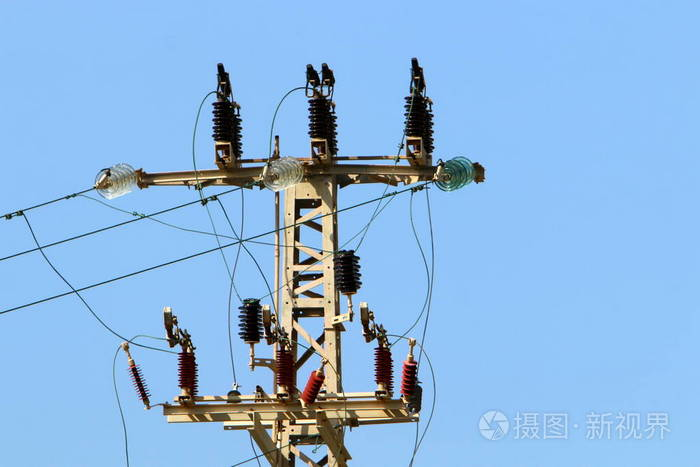insulator: (95, 163, 136, 199), (264, 156, 306, 189), (437, 157, 475, 191)
